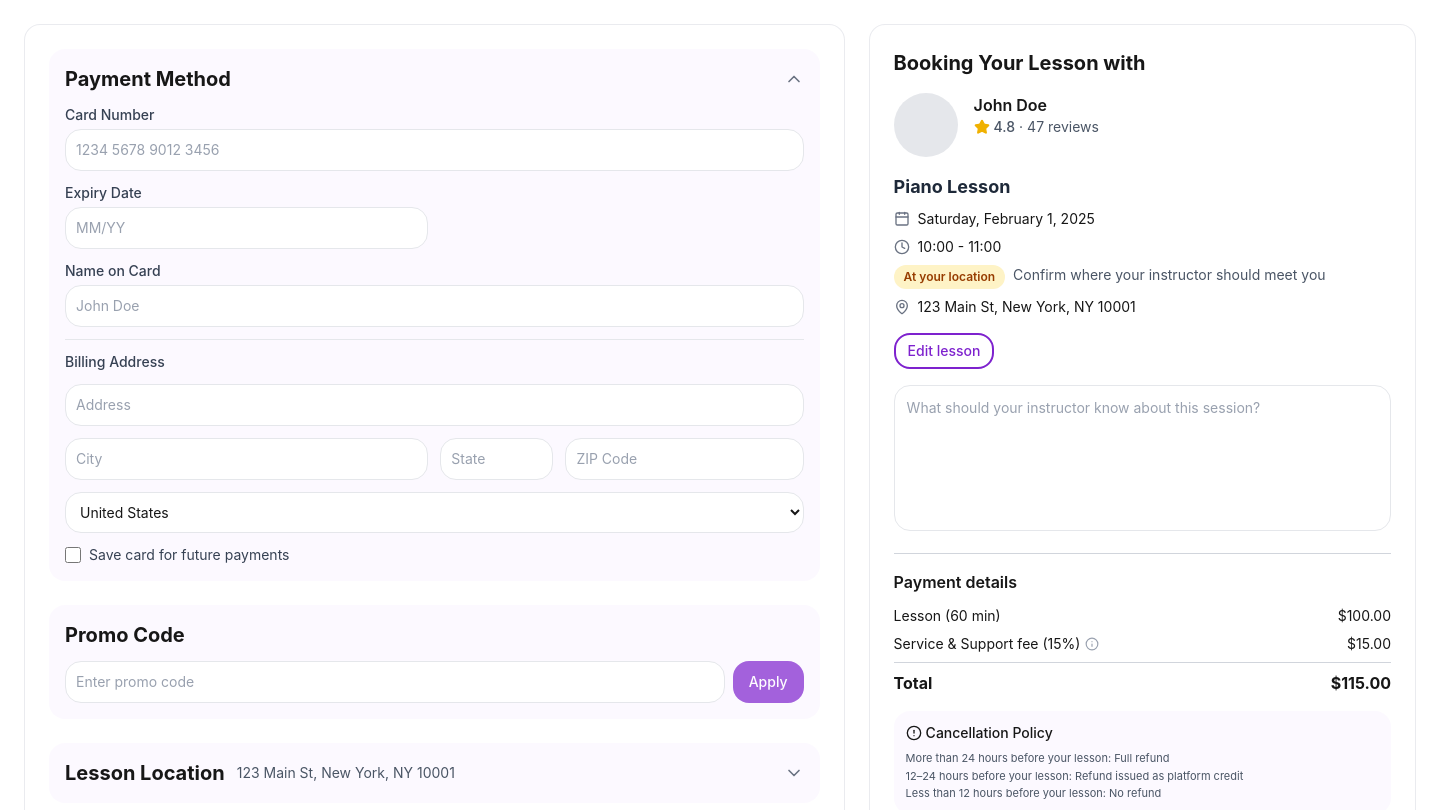
Test: PaymentConfirmation › handlePromoAction and promoInputChange interactions › removes promo and re-enables input
Apply a promo code
In the field with placeholder "Enter promo code": {"x": 395, "y": 682} [65, 661, 725, 703], type "TESTCODE"
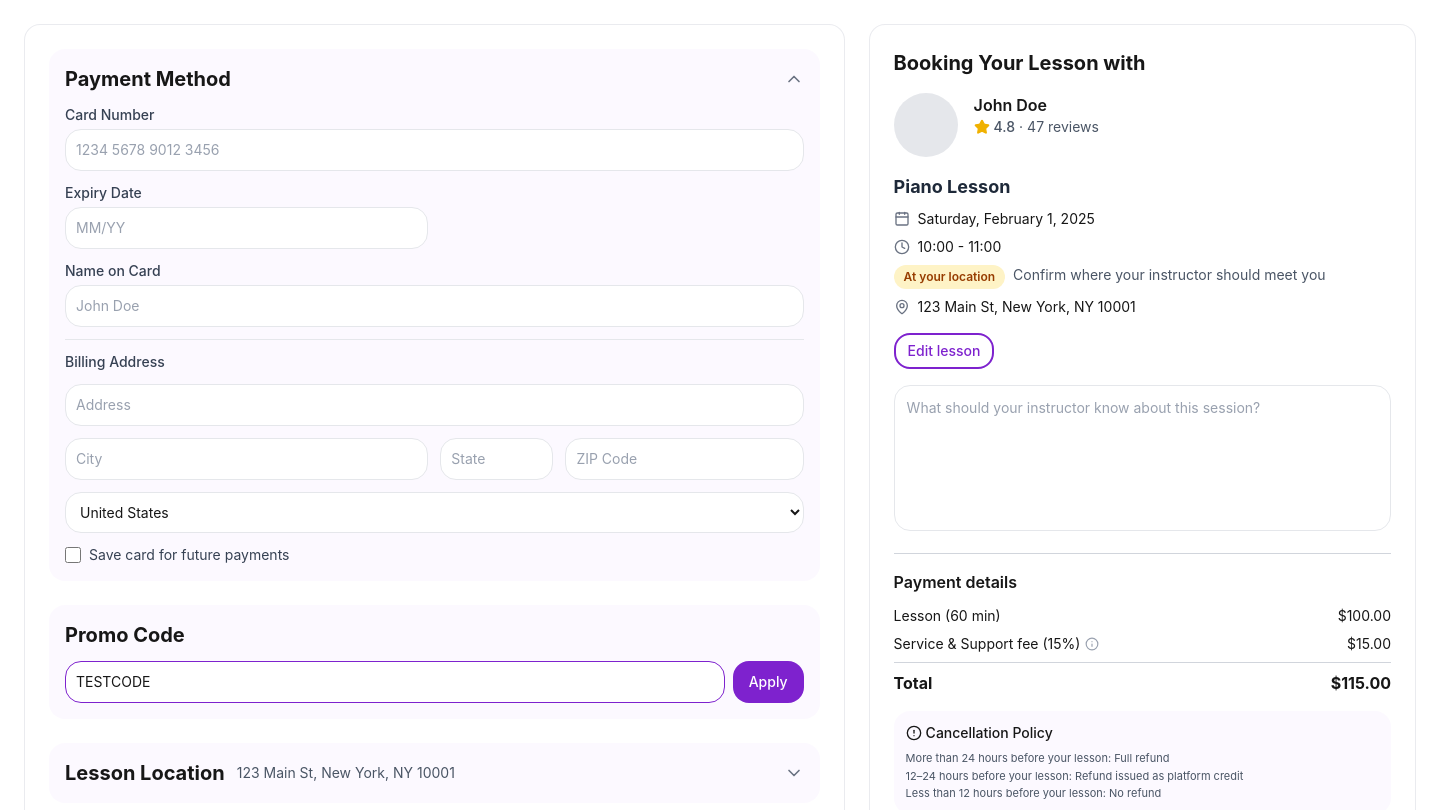
Click the button "Apply": {"x": 768, "y": 682} [733, 661, 804, 703]
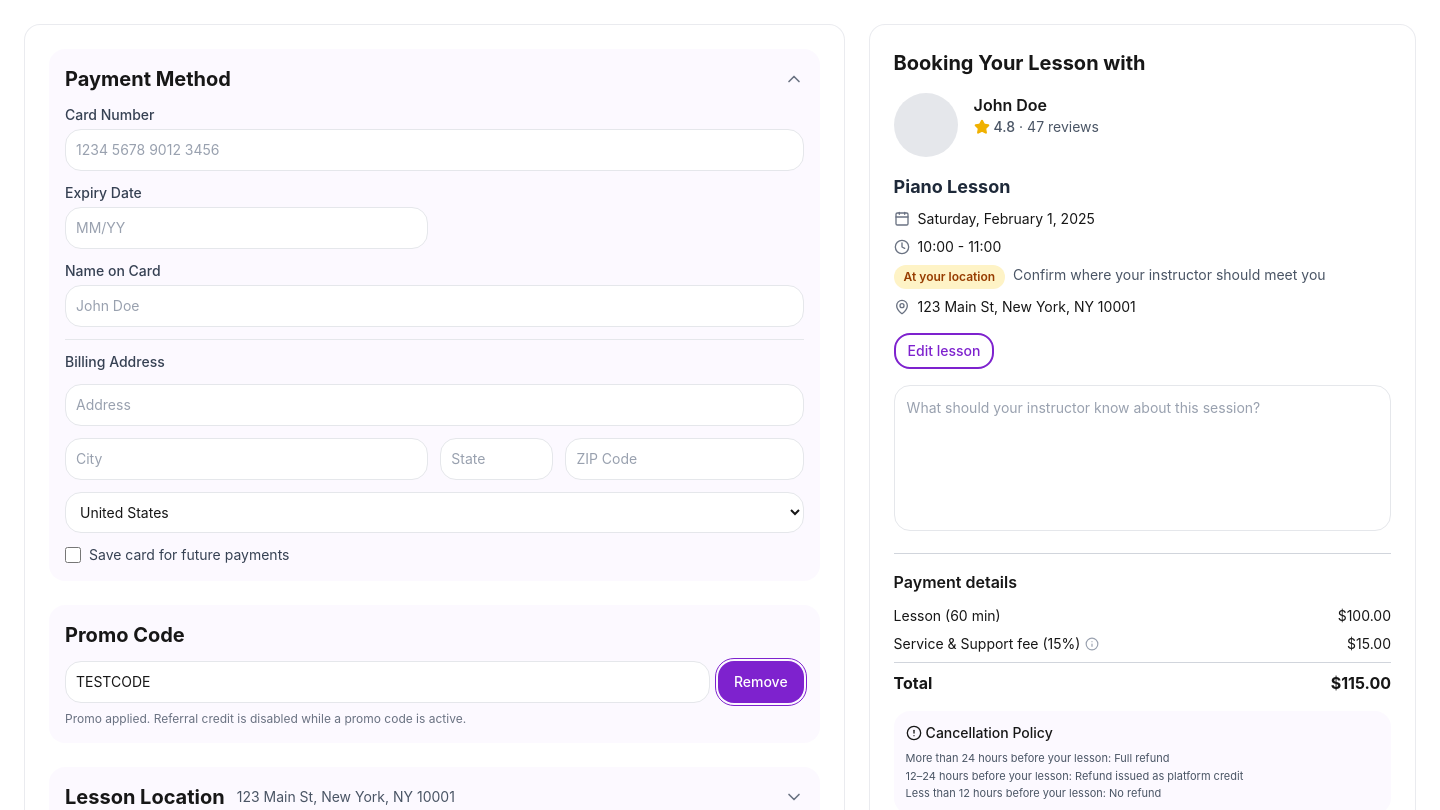
Expected: the button "Remove" is shown
Remove the promo
Click the button "Remove": {"x": 761, "y": 682} [718, 661, 804, 703]
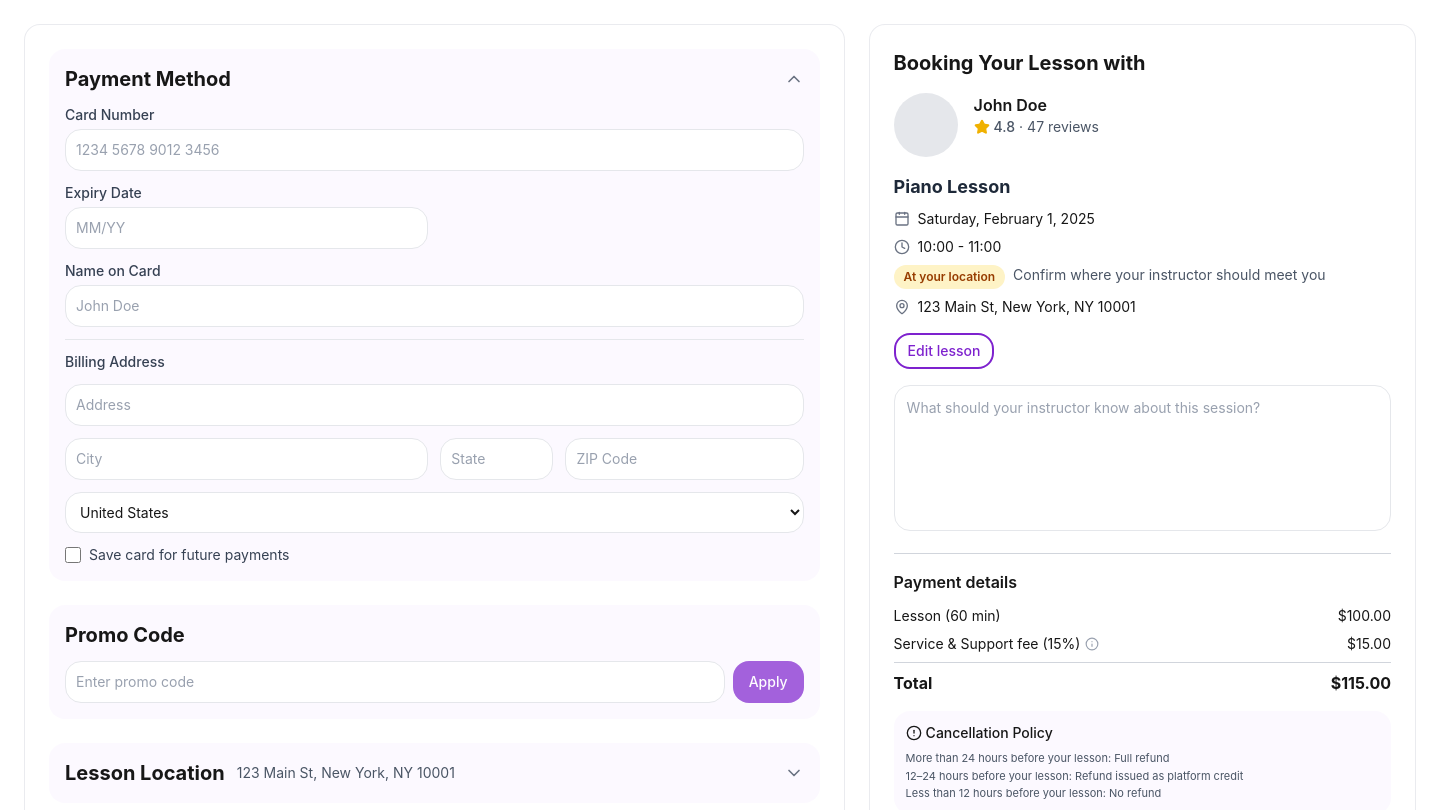
Expected: the field with placeholder "Enter promo code" is enabled, [65, 661, 725, 703]
Expected: the field with placeholder "Enter promo code" is empty, [65, 661, 725, 703]
